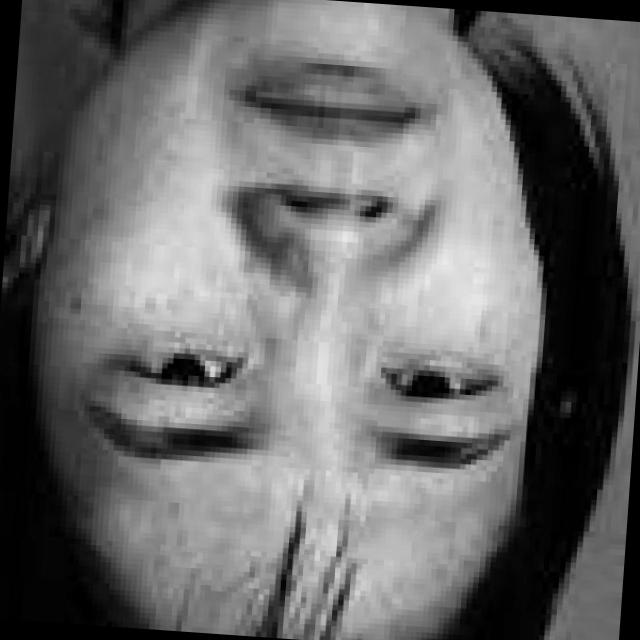disgust: (62, 0, 573, 599)
